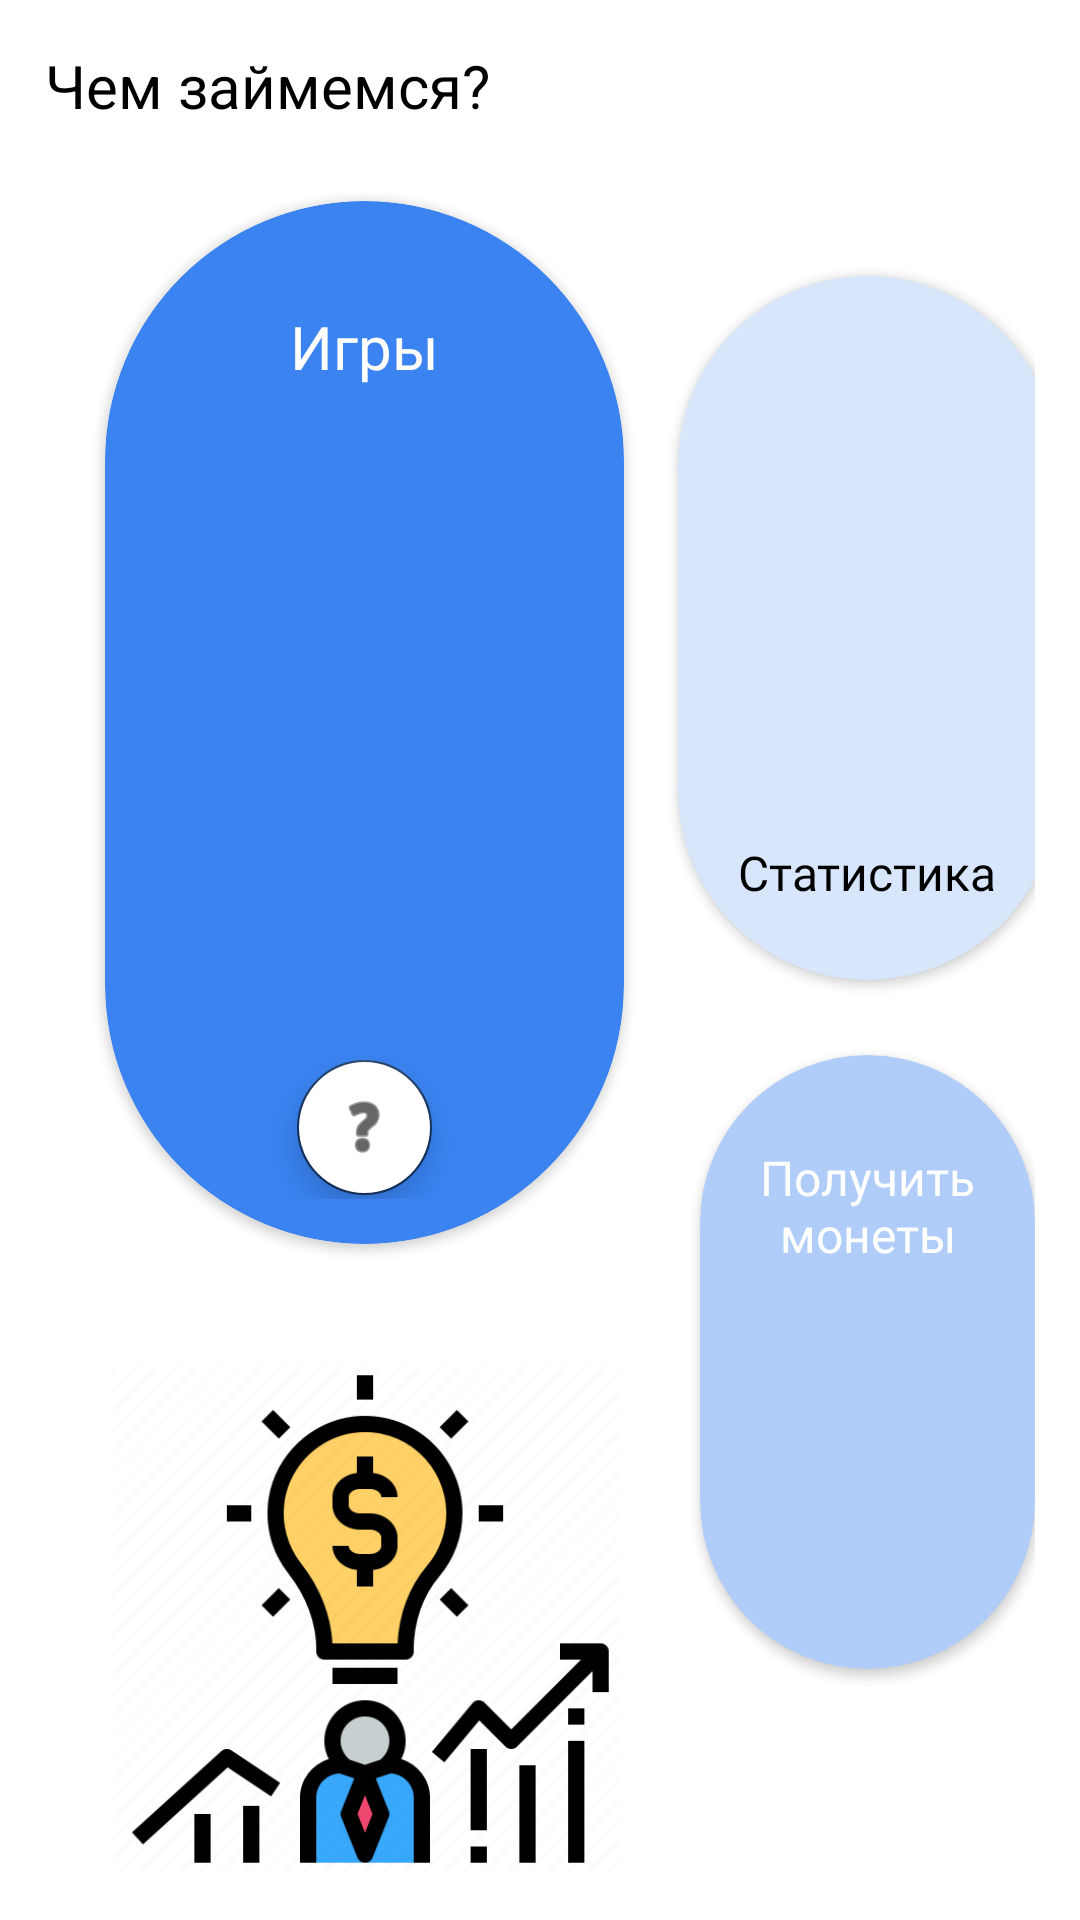

Icon bounding boxes for this 1080×1920 phone screenshot, format (x1, y1, x2, y2):
help: (297, 1060, 432, 1199)
